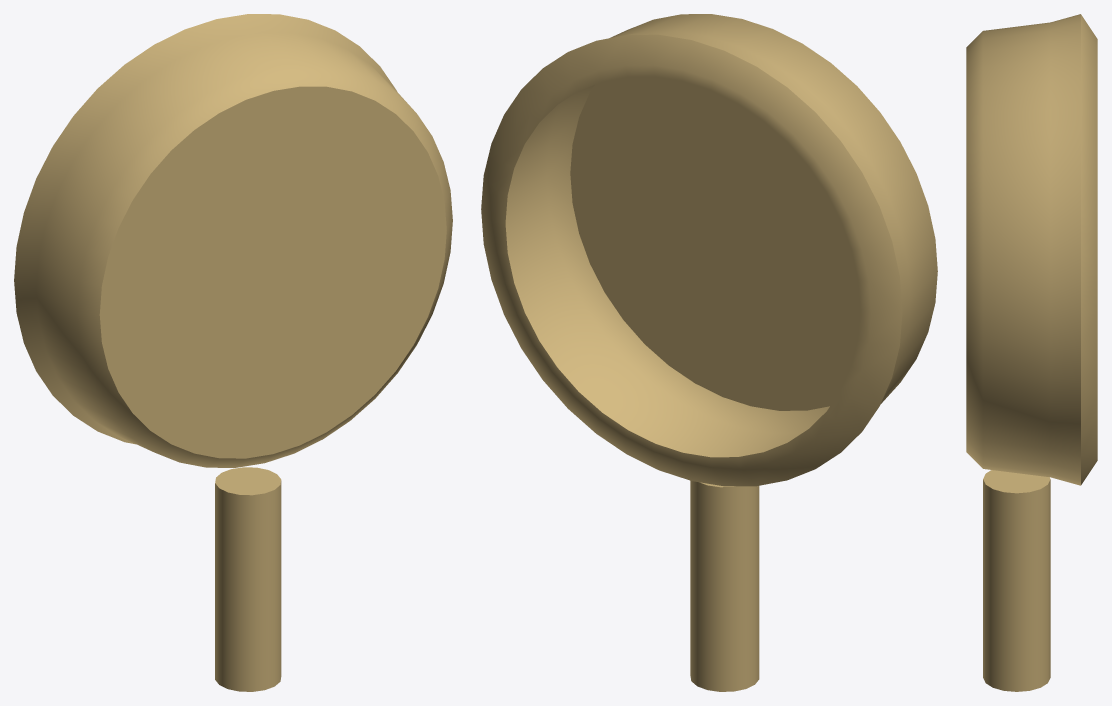
The model's file is valve_gauge.glb.
The picture shows the model from 3 angles, left to right: view 1: azimuth 30°, elevation 25°; view 2: azimuth 150°, elevation 25°; view 3: azimuth 270°, elevation 25°; orthographic projection. The views are drawn at different scales.
Parts seen in each view (by area): view 1: valve_gauge; view 2: valve_gauge; view 3: valve_gauge.
Part boxes in pixels (x1,y1,x2,y2): valve_gauge: (14, 14, 452, 691); valve_gauge: (481, 14, 937, 691); valve_gauge: (966, 14, 1097, 691).
Bounding box in the file's own units: 0.28 × 0.42 × 0.078.
